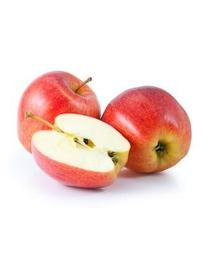apple: (100, 85, 190, 173), (31, 114, 132, 188), (15, 70, 100, 154)
